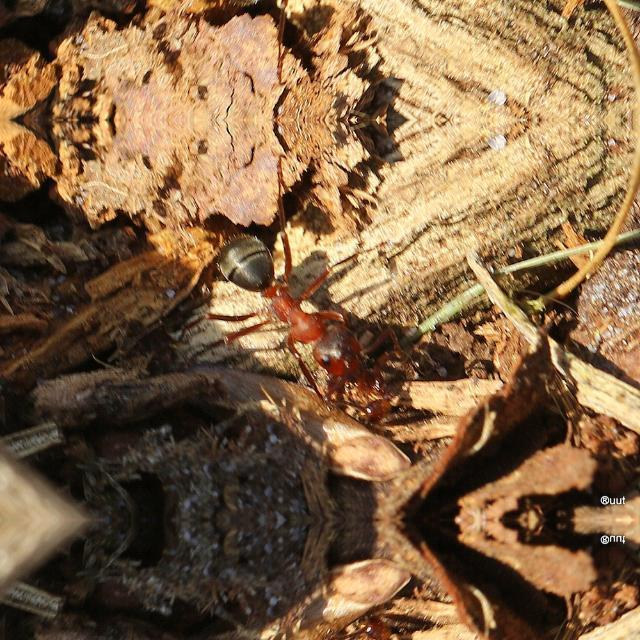Formica: (210, 202, 378, 384)
